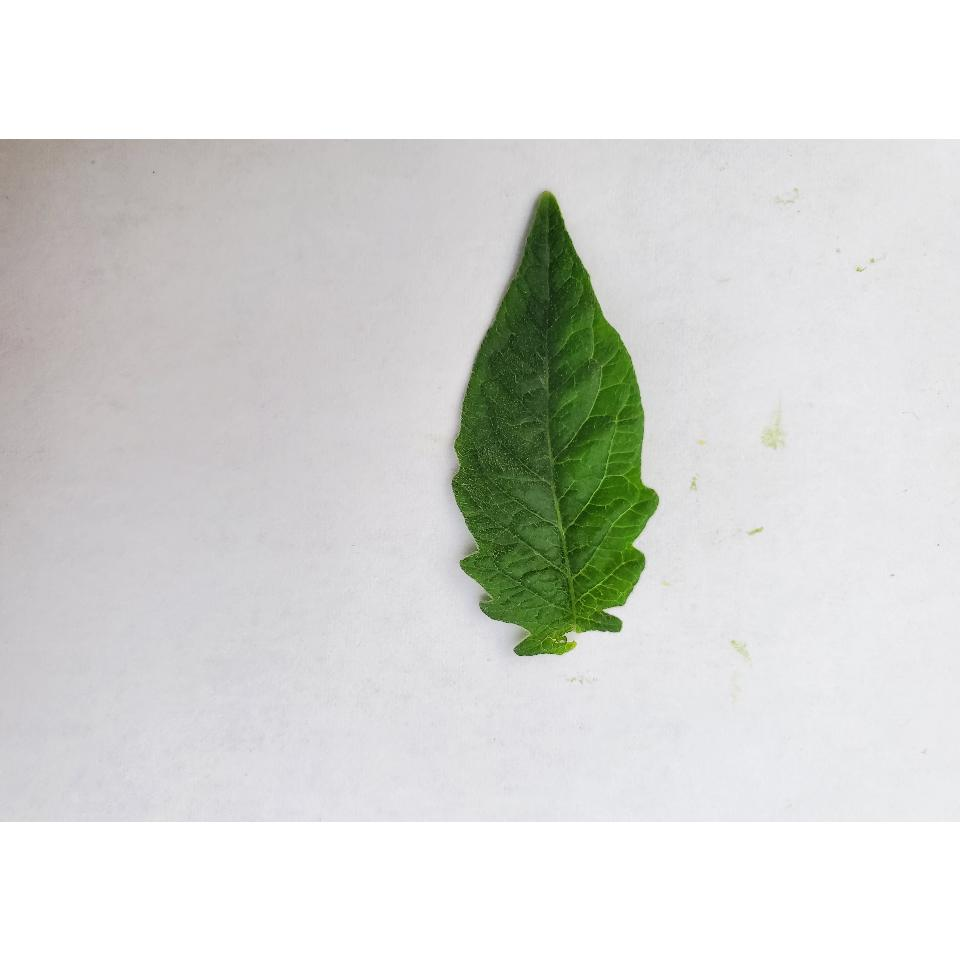tomato_leaves: (448, 192, 659, 656)
